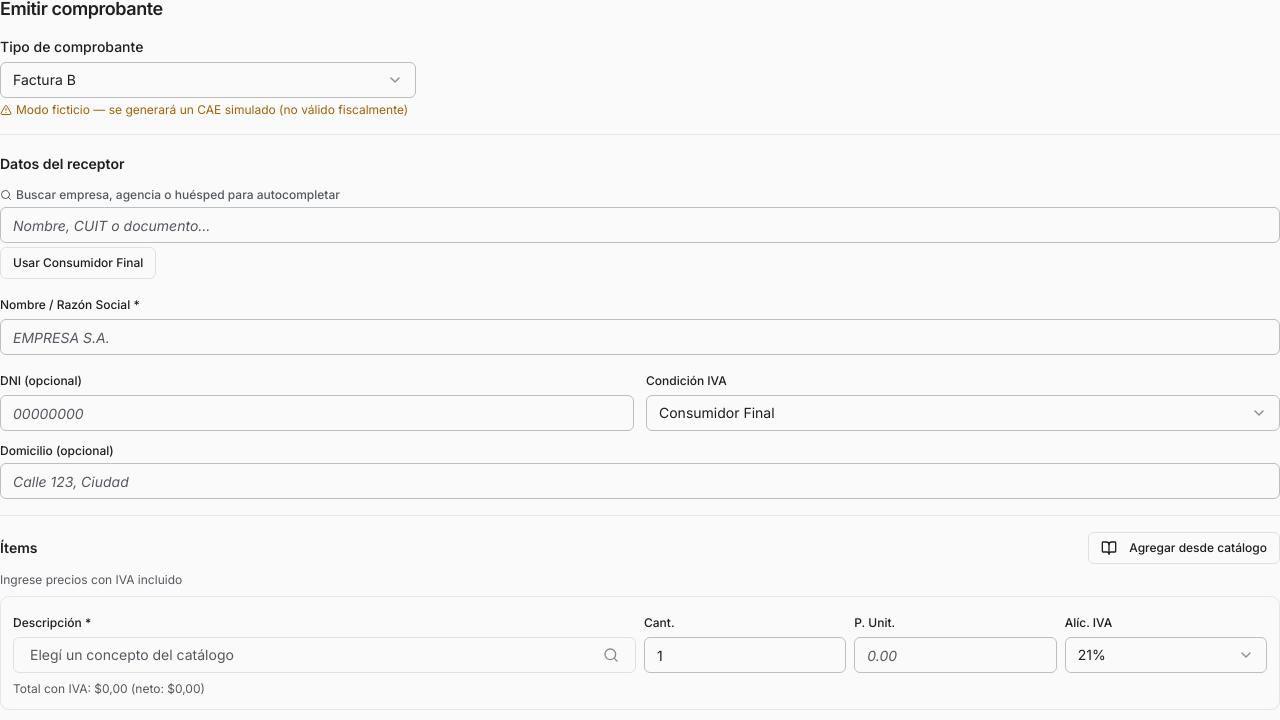
Test case: EmitirFacturaDialog — buscador de catálogo inline por renglón › el buscador de la fila filtra por nombre igual que el botón general
Click the dropdown with test id "item-description-0" at (132,654), box [13,637,636,673]
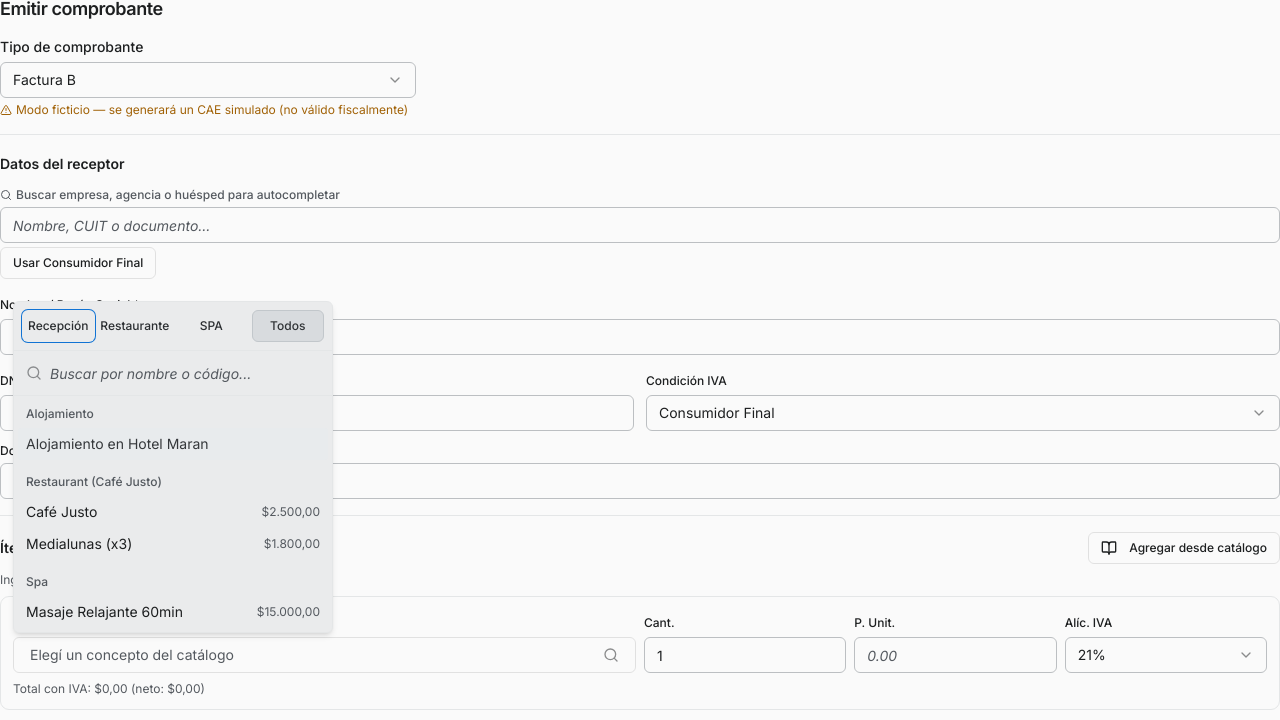
Now the option with test id "item-catalog-option-0-mi-2" is shown, box [26,535,320,552]
Type "café" into the dropdown with test id "input-item-catalog-search-0" at (185,373), box [50,351,320,395]
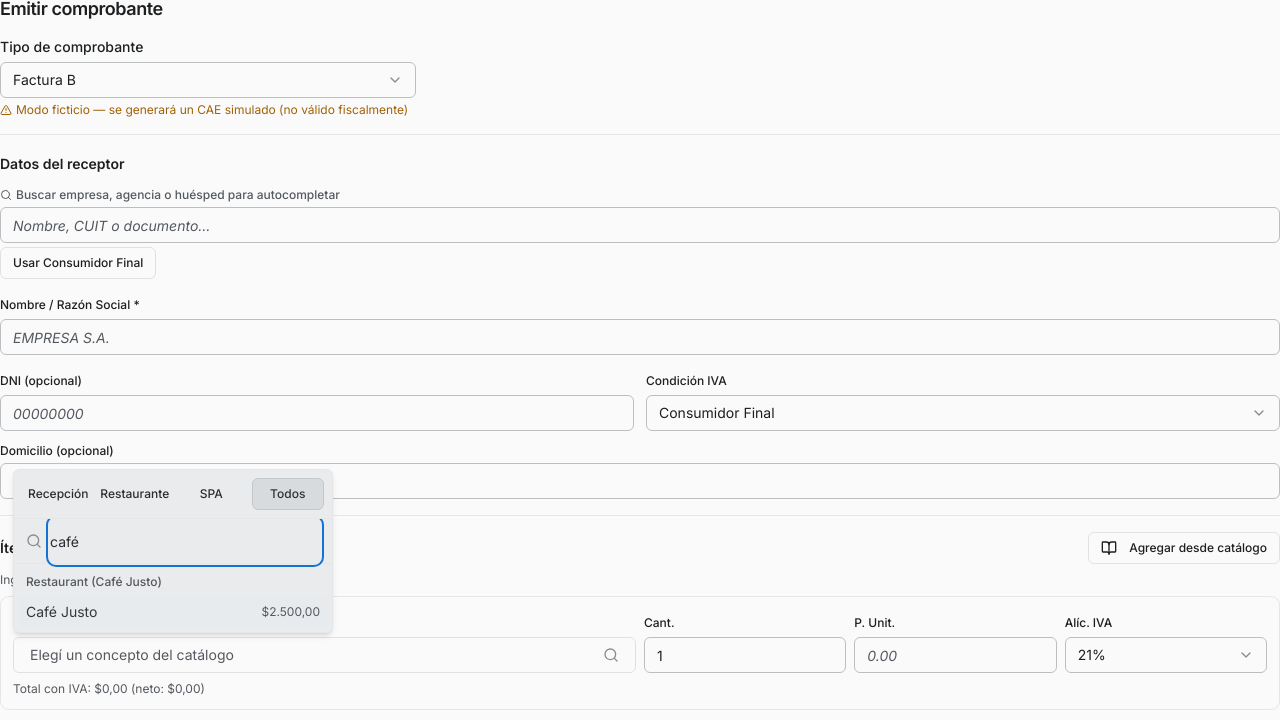
Now the option with test id "item-catalog-option-0-mi-1" is shown, box [18,596,328,628]
Now the option with test id "item-catalog-option-0-mi-2" is gone
